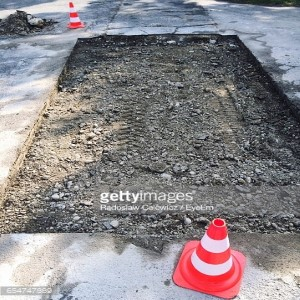traffic cone: (172, 218, 247, 300)
